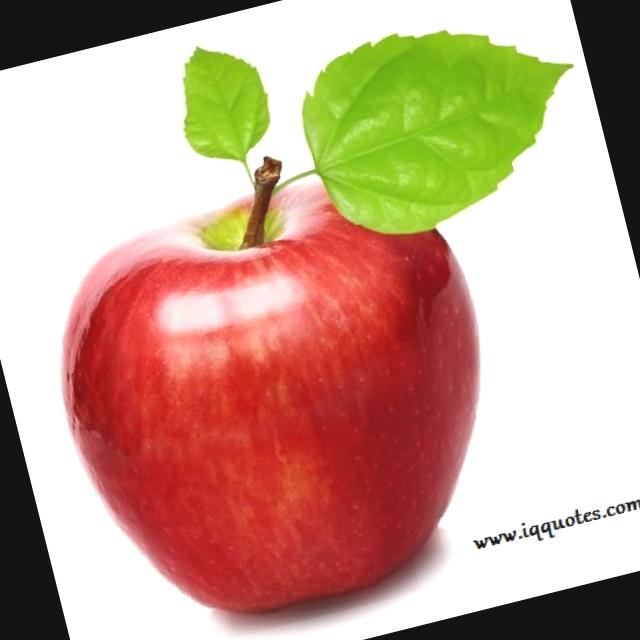apple: (29, 144, 540, 640)
